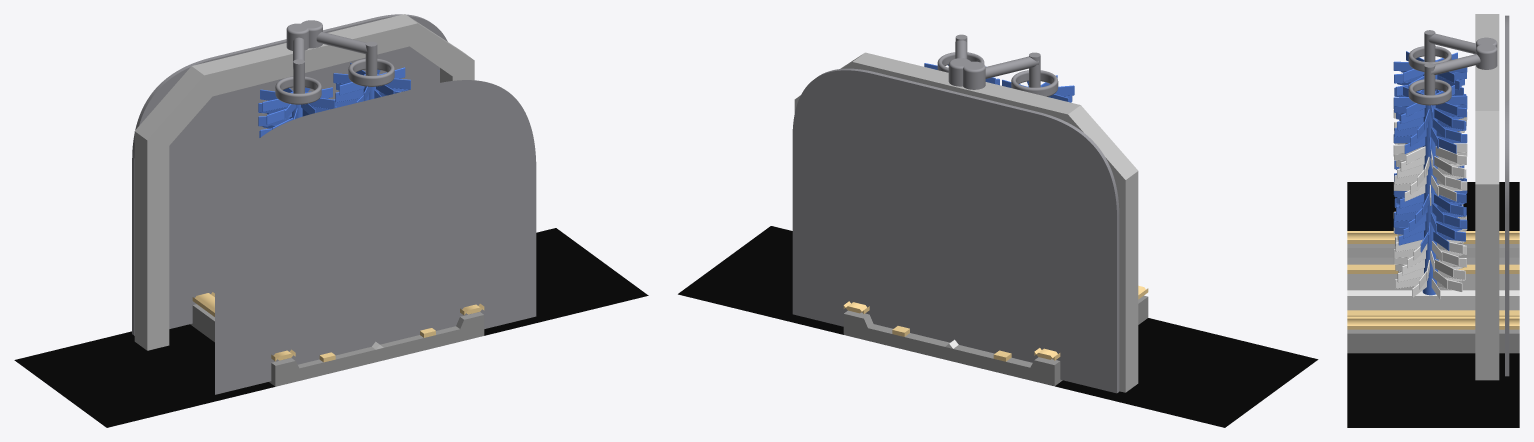
File: station__brush2.glb
3 renders of one model, left to right at view 1: azimuth 30°, elevation 25°; view 2: azimuth 150°, elevation 25°; view 3: azimuth 270°, elevation 25°, orthographic. The views are drawn at different scales.
Parts seen in each view (by area): view 1: lottie_front, _basefloor, Boolean, lottie_back, road, gate__right, holder__brush--ring-L, holder__brush--ring-R, holder__brush--top-R; view 2: gate__right, gate__left, _basefloor, Boolean, road, holder__brush--ring-L, holder__brush--top-L, holder__brush--boog-L; view 3: _basefloor, road, Boolean, Cube (×35), road__top--right, gate__left, holder__brush--stick-R, road__rail--right, road__top--left, road__rail--left, holder__brush--ring-R, road__rail--middle (+7 smaller).
Boxes of the visible parts, box(x1,y1,x2,y2) form: lottie_front: box(215, 80, 536, 394); _basefloor: box(14, 228, 648, 427); Boolean: box(134, 14, 474, 350); lottie_back: box(160, 46, 439, 328); road: box(190, 304, 484, 386); gate__right: box(132, 39, 286, 335); holder__brush--ring-L: box(275, 76, 321, 104); holder__brush--ring-R: box(348, 58, 394, 86); holder__brush--top-R: box(316, 32, 367, 54); gate__right: box(954, 92, 1119, 393); gate__left: box(792, 68, 956, 342); _basefloor: box(678, 226, 1318, 427); Boolean: box(794, 52, 1138, 392); road: box(843, 295, 1148, 386); holder__brush--ring-L: box(1011, 70, 1058, 96); holder__brush--top-L: box(985, 56, 1038, 78); holder__brush--boog-L: box(963, 61, 985, 89); _basefloor: box(1347, 182, 1519, 427); road: box(1347, 244, 1519, 353); Boolean: box(1475, 14, 1499, 380); Cube (×35): box(1393, 95, 1467, 292); road__top--right: box(1347, 316, 1519, 329); gate__left: box(1505, 64, 1509, 376); holder__brush--stick-R: box(1422, 93, 1438, 295); road__rail--right: box(1347, 310, 1519, 316); road__top--left: box(1347, 231, 1519, 243); road__rail--left: box(1347, 264, 1519, 273); holder__brush--ring-R: box(1408, 79, 1451, 105); road__rail--middle: box(1347, 290, 1519, 295).
Size of the model in its own units: 10.8 by 5.34 by 3.2.
